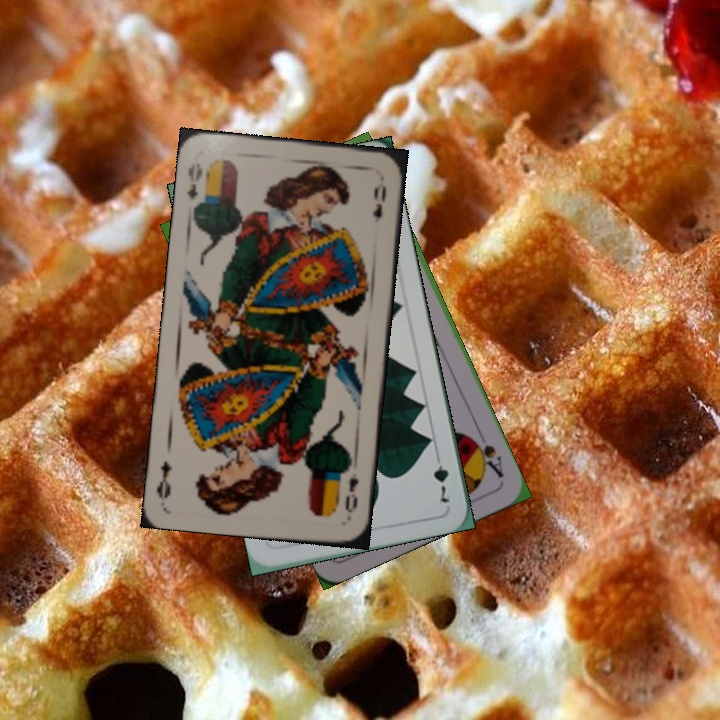EO: (340, 461, 362, 516), (183, 159, 205, 202)
G7: (429, 448, 453, 505)
SA: (466, 431, 507, 481)
